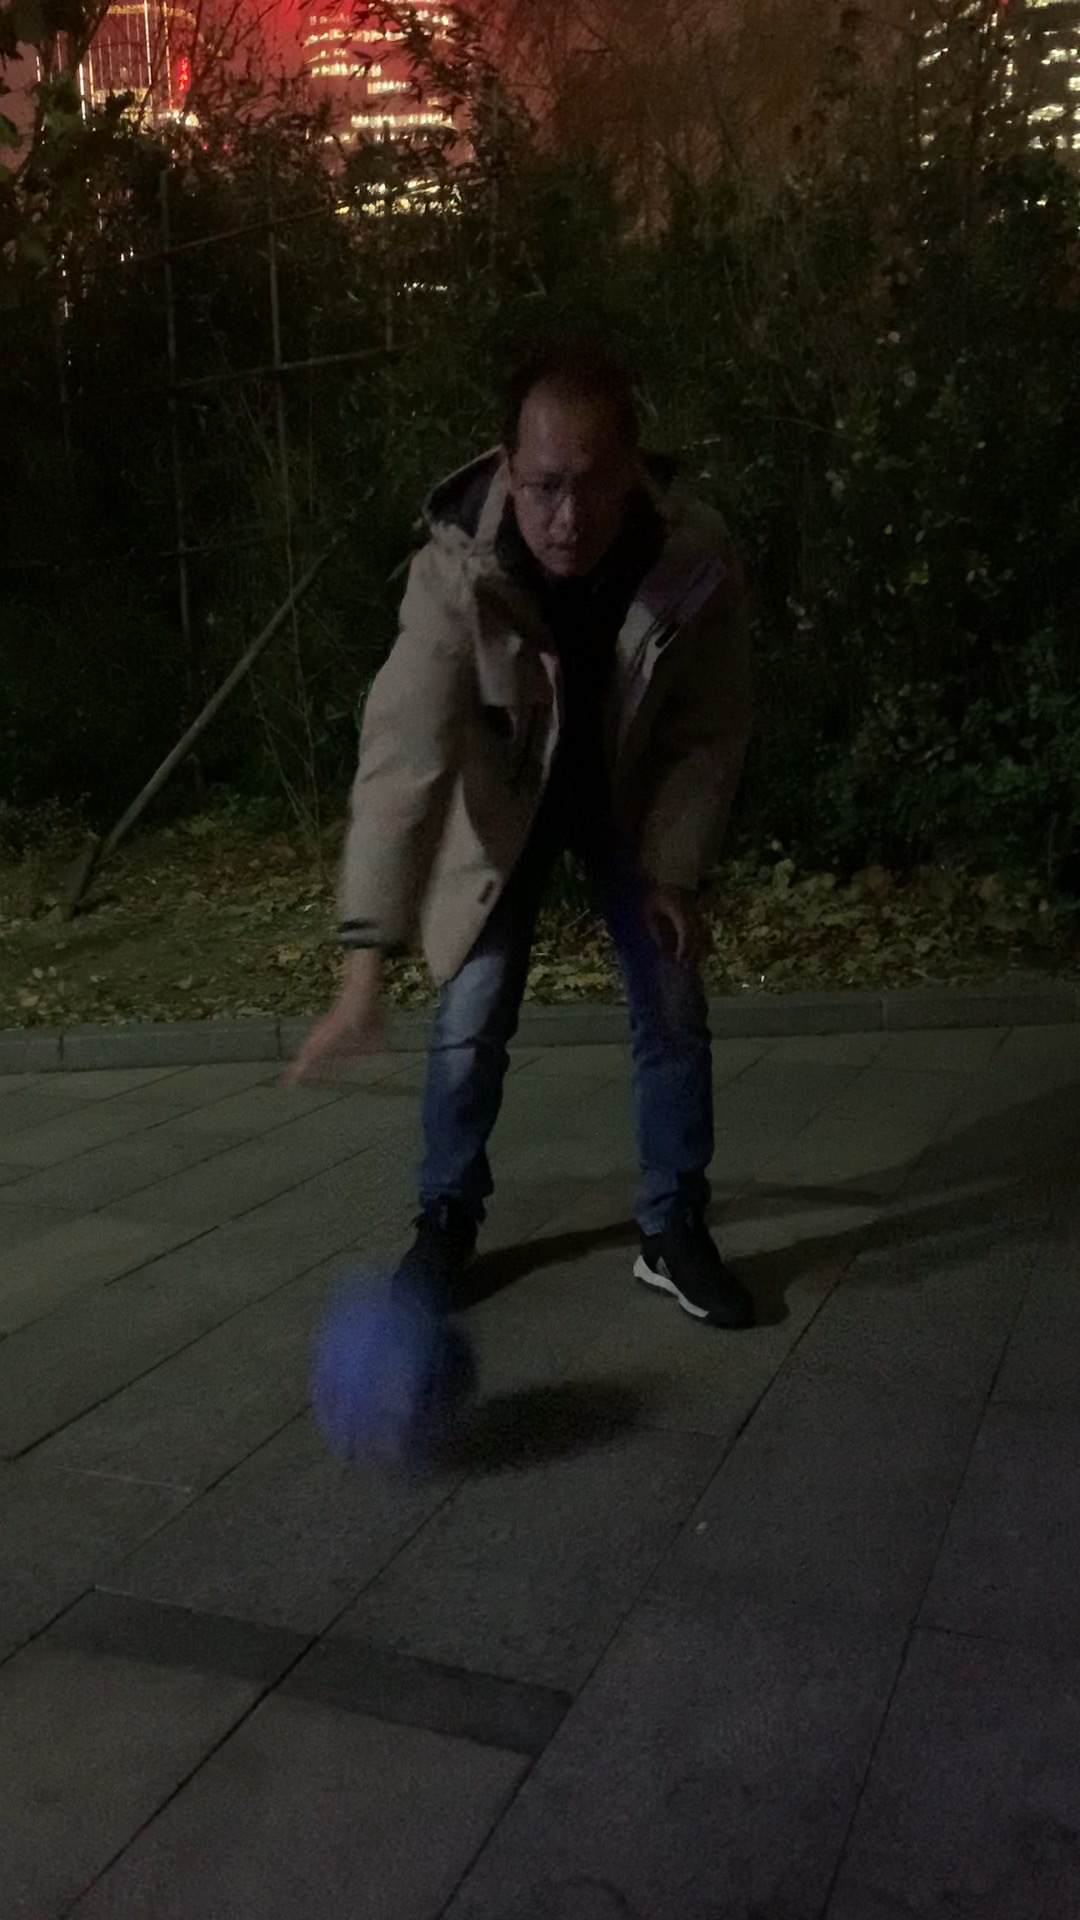ball: (318, 1300, 485, 1465)
